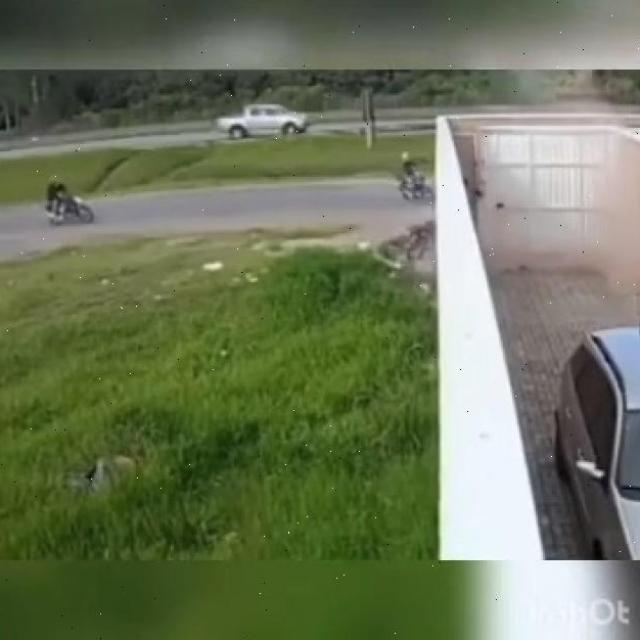accident: (374, 215, 509, 273)
